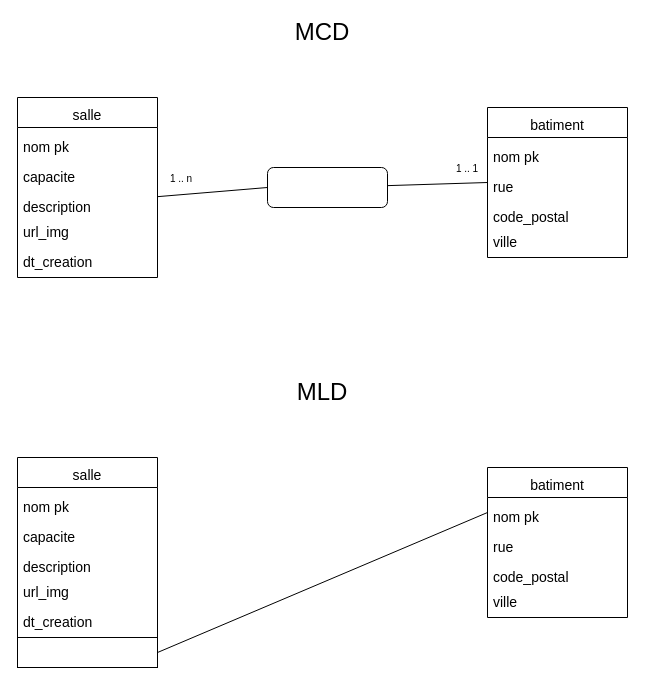
Image size: 645x685. Some labels were removed from this diagram. Here are the shapes that lost their labels. From the top down, the centre of each, then its label:
point 327,187: Contien
point 87,652: id_batiment
